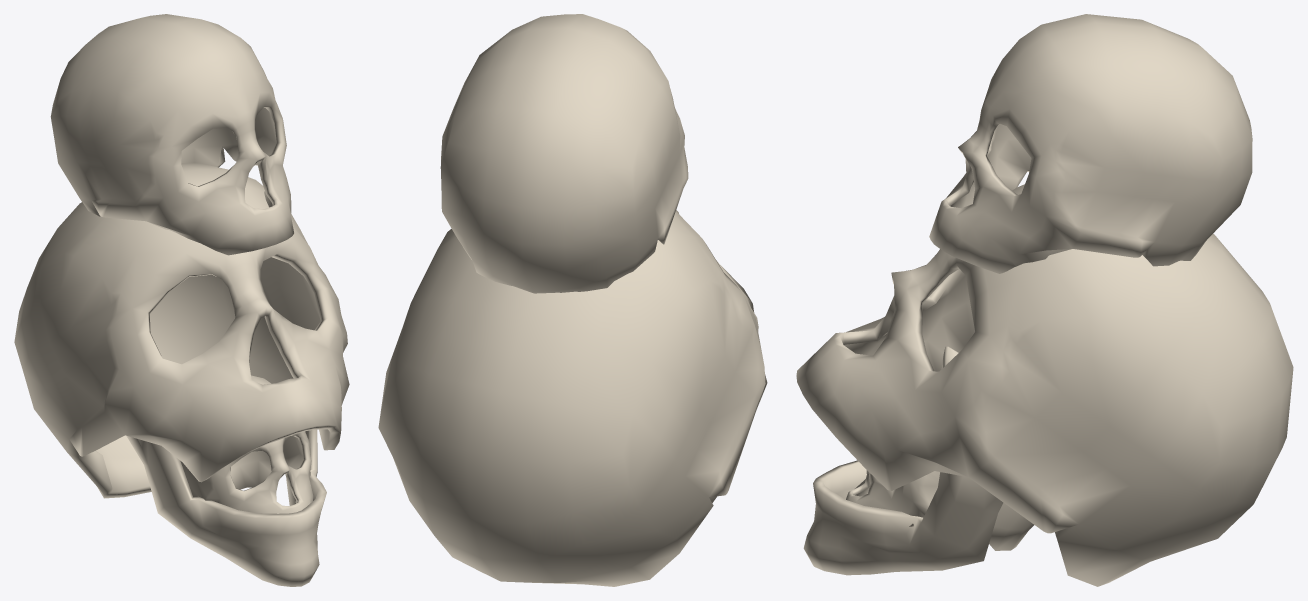
Rendered from BonePile_9.glb.
3 renders of one model, left to right at view 1: azimuth 30°, elevation 25°; view 2: azimuth 150°, elevation 25°; view 3: azimuth 270°, elevation 25°, orthographic. The views are drawn at different scales.
Parts seen in each view (by area): view 1: BonePile_9; view 2: BonePile_9; view 3: BonePile_9.
Boxes of the visible parts, <box> form: BonePile_9: <box>14,14,349,586</box>; BonePile_9: <box>378,14,767,586</box>; BonePile_9: <box>796,14,1293,586</box>.
Bounding box in the file's own units: 0.2244 × 0.416 × 0.3474.
